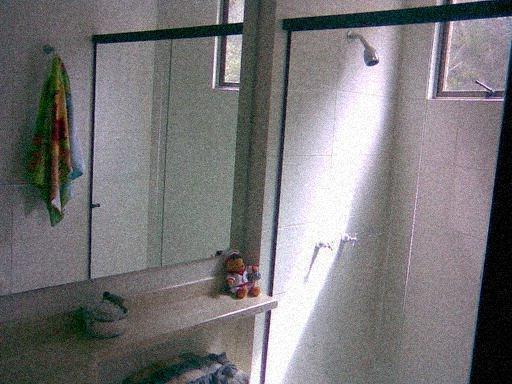Ducha: (258, 12, 508, 379)
